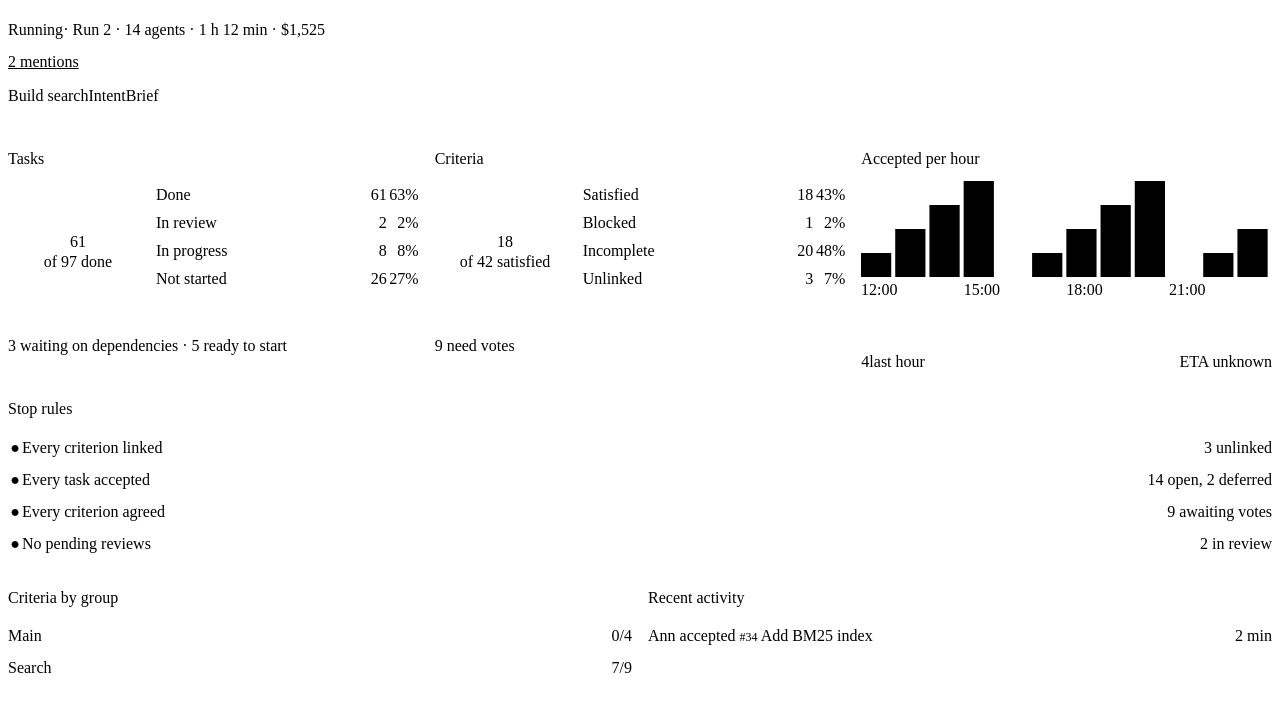
renders donuts, hourly pace, linked intent, four gates and compact activity
The image size is (1280, 720).
Expected: the heading "Running" is shown, [8, 21, 63, 39]
Expected: the text "· Run 2 · 14 agents · 1 h 12 min · $1,525" is shown, [63, 21, 325, 39]
Hover over the text "ETA unknown" at (1226, 362), box [1180, 353, 1272, 371]
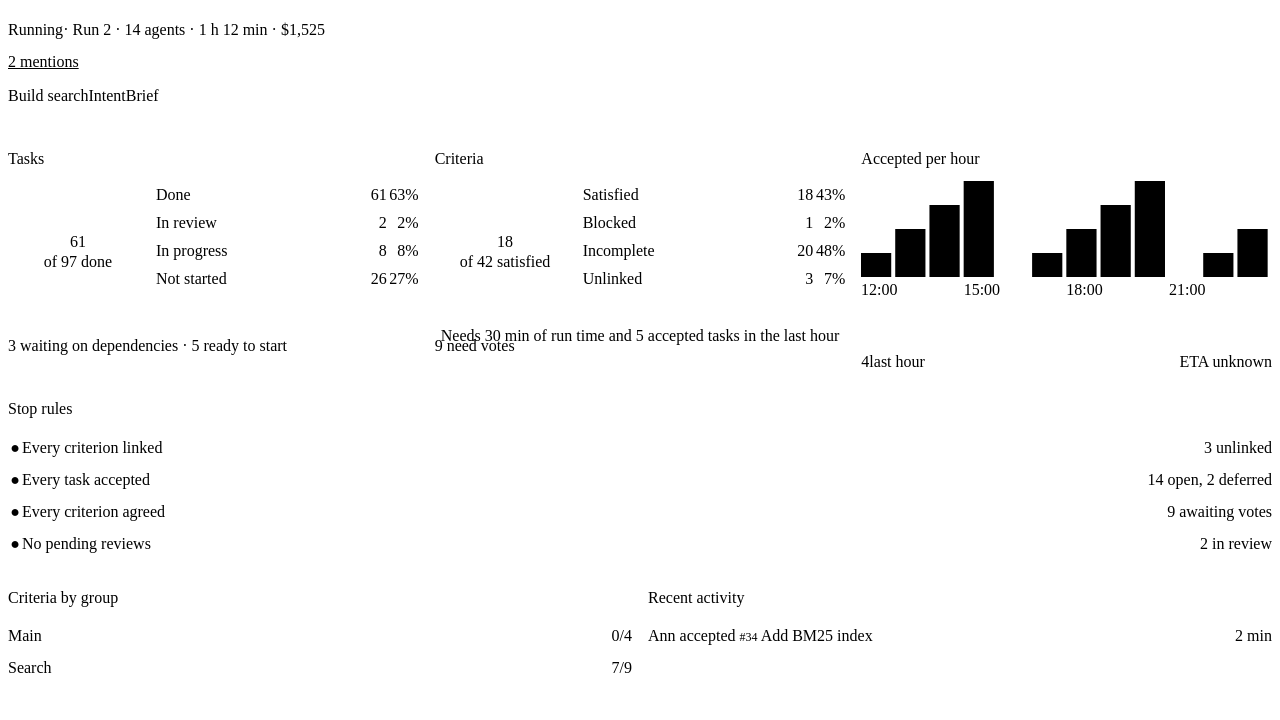
Result: the tooltip reads "Needs 30 min of run time and 5 accepted tasks in the last hour" at [441, 327, 839, 344]
